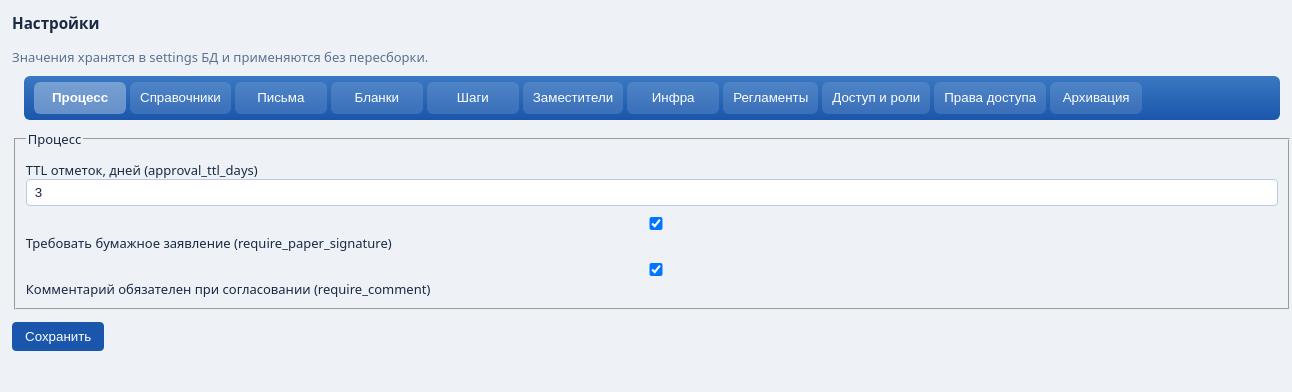
it: AdminSettings › админ правит TTL и сохраняет
Replace the text in the number field labelled "TTL отметок" with "7": (652,192) [26, 179, 1278, 206]
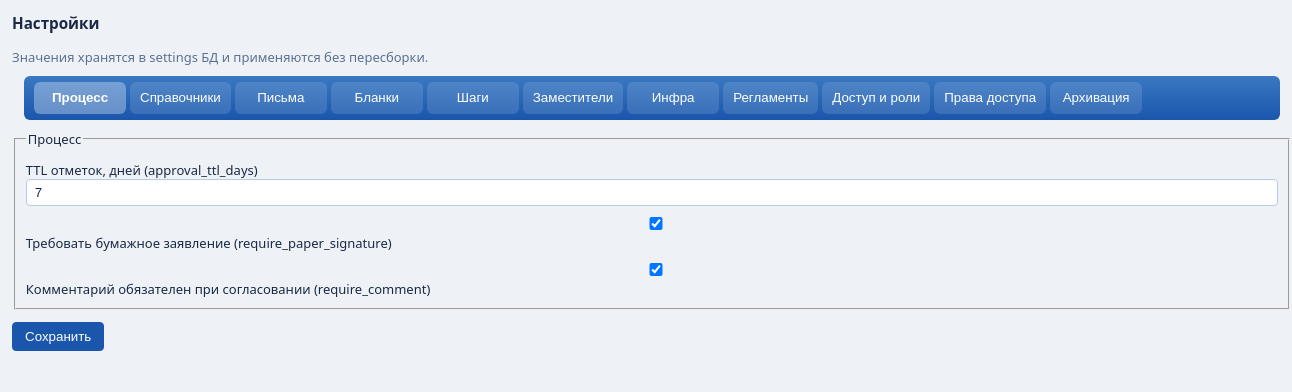
Click the button "Сохранить": (58,337) [12, 322, 104, 351]
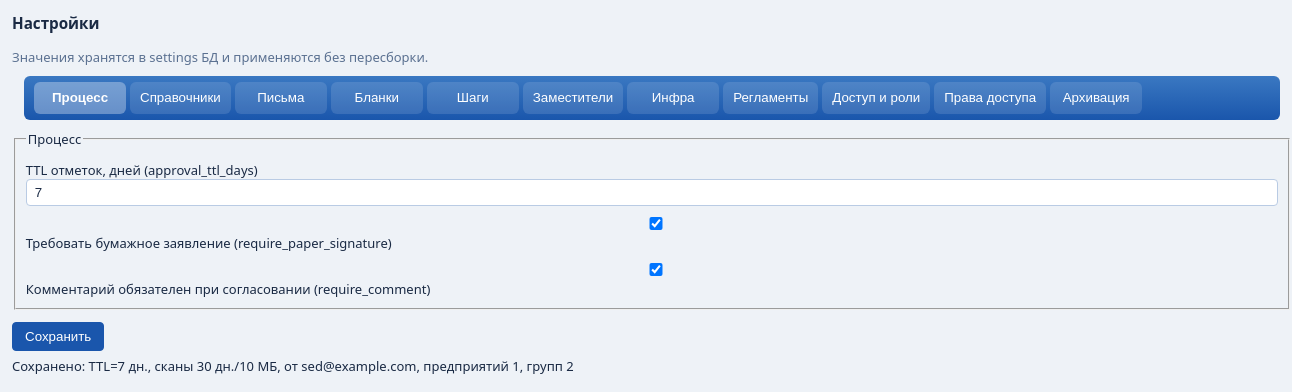
Now the message shows "TTL=7", box [12, 357, 574, 375]
